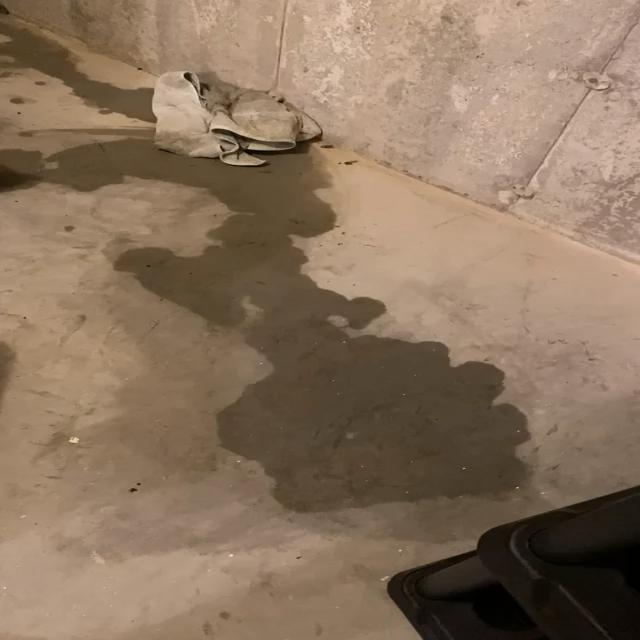water accumulation: (2, 135, 538, 498), (0, 15, 156, 124)
